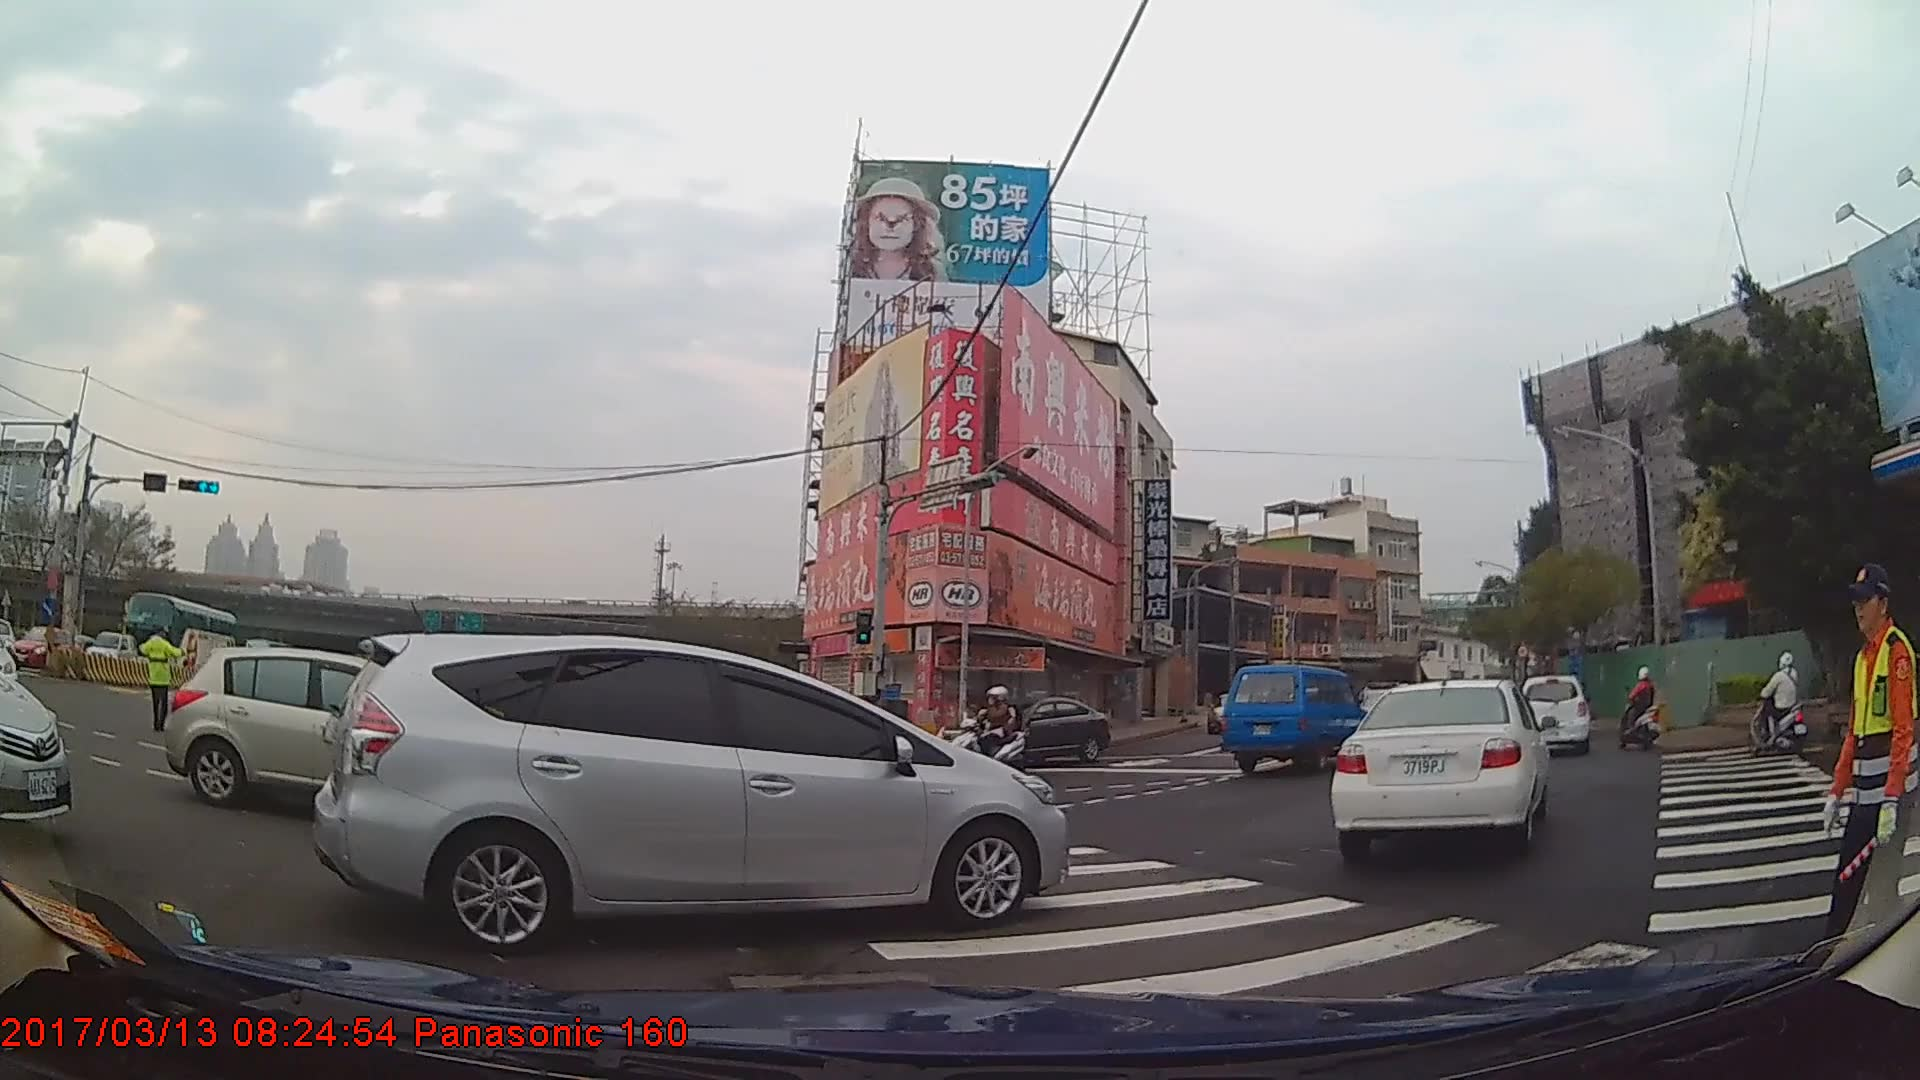pedestrian: (1821, 564, 1920, 992), (133, 621, 189, 729)
rider: (949, 691, 1031, 775), (1748, 648, 1806, 754), (1619, 665, 1663, 748)
vehicle: (308, 622, 1071, 944), (164, 640, 465, 812), (1325, 676, 1547, 853), (1212, 659, 1359, 772), (120, 587, 236, 674), (988, 694, 1112, 767), (1518, 672, 1588, 755), (6, 623, 86, 674), (82, 626, 134, 670)
